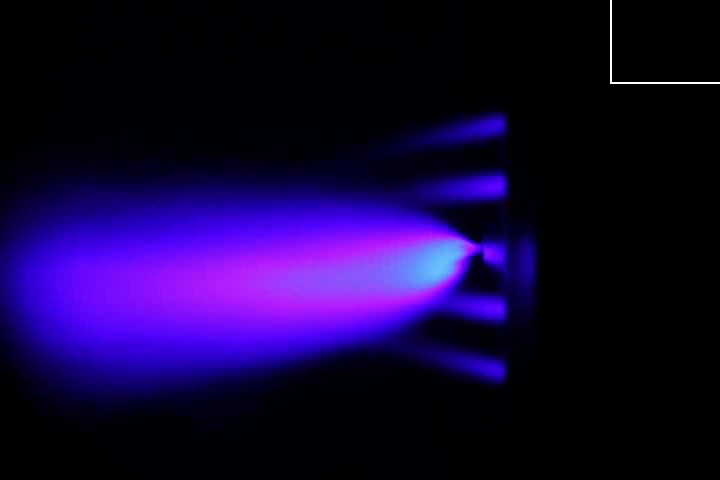burner cap: (480, 238, 508, 268)
pilot flame: (388, 116, 510, 150), (408, 166, 505, 201), (421, 345, 507, 381), (432, 295, 512, 329)
stable: (197, 216, 483, 320)
